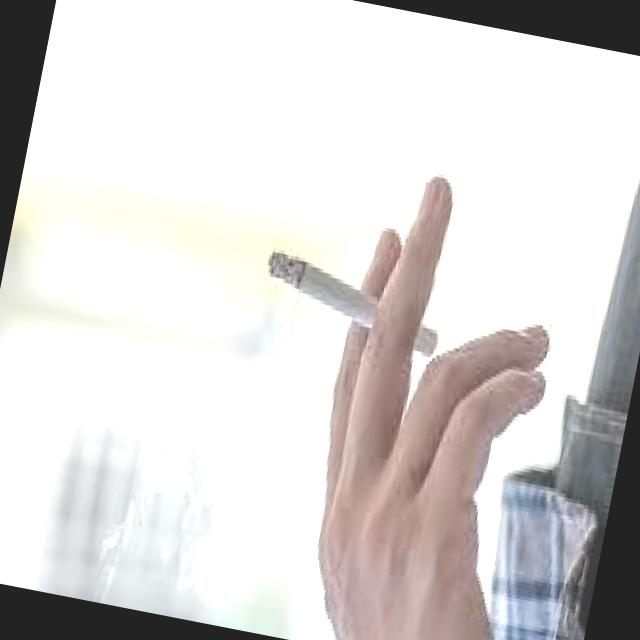cigarette: (251, 244, 450, 365)
